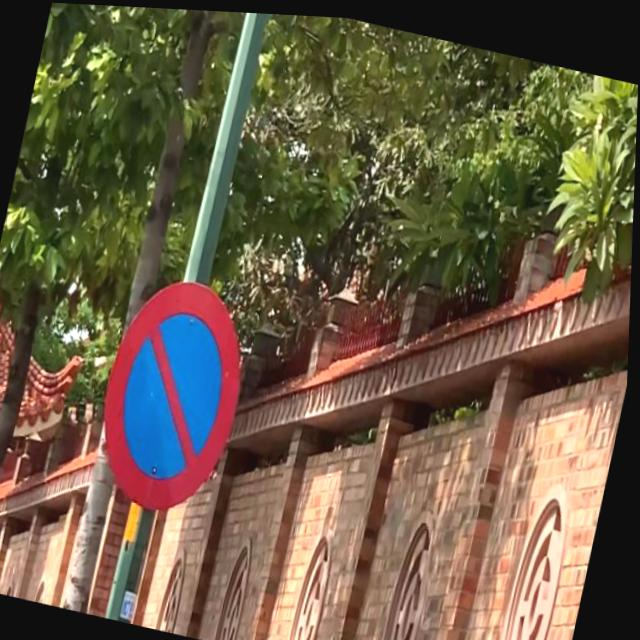Cam do xe: (84, 260, 265, 526)
